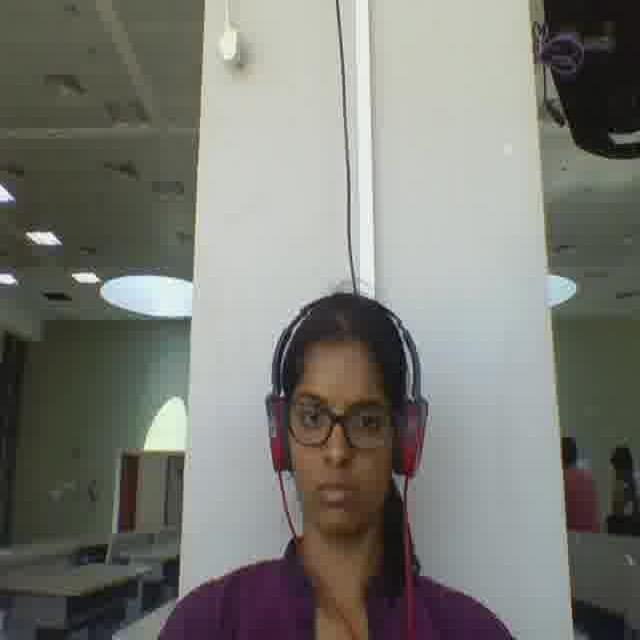Confusion: (286, 343, 394, 536)
